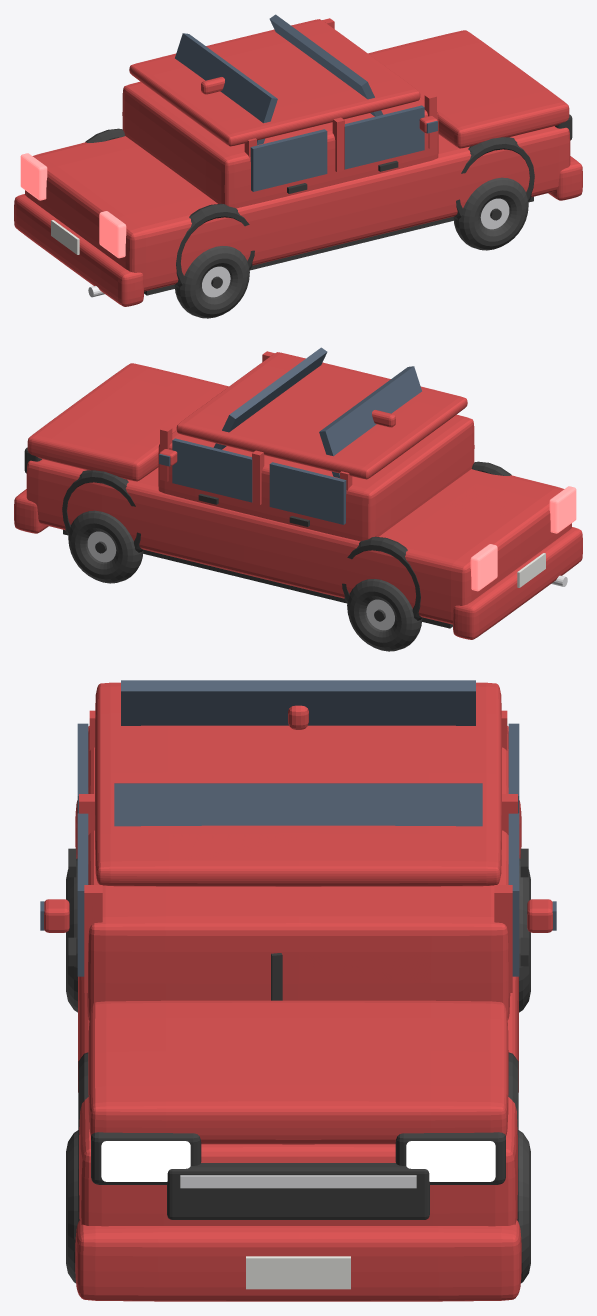
The model's file is jp_car.glb.
3 renders of one model, top to bottom at view 1: azimuth 30°, elevation 25°; view 2: azimuth 150°, elevation 25°; view 3: azimuth 270°, elevation 25°, orthographic. The views are drawn at different scales.
Parts seen in each view (by area): view 1: LowerBody, Roof, Hood, Cabin, BumperR, SideGlassF_-0.82, SideGlassR_-0.82, Tire3, Tire1, RearGlass, Windshield, Arch3 (+10 smaller); view 2: LowerBody, Roof, Hood, Cabin, BumperR, SideGlassF_0.82, SideGlassR_0.82, Tire2, Tire0, RearGlass, Windshield, Arch2 (+10 smaller); view 3: Hood, Roof, Cabin, BumperF, LowerBody, RearGlass, Windshield, Grille, PlateF, HeadLens_L, HeadLens_R, GrilleBar (+14 smaller).
Boxes of the visible parts, x1,y1,x2,y2 form: LowerBody: (25,126,570,291); Roof: (129,19,420,146); Hood: (368,30,569,148); Cabin: (122,81,438,208); BumperR: (14,194,143,306); SideGlassF_-0.82: (344,105,424,169); SideGlassR_-0.82: (250,129,327,191); Tire3: (174,246,249,318); Tire1: (453,177,528,250); RearGlass: (175,33,277,145); Windshield: (269,14,383,116); Arch3: (174,203,254,287); LowerBody: (26,459,571,624); Roof: (176,352,467,479); Hood: (27,363,228,481); Cabin: (158,414,474,541); BumperR: (453,527,582,639); SideGlassF_0.82: (172,438,252,502); SideGlassR_0.82: (269,462,346,524); Tire2: (347,579,422,651); Tire0: (68,510,143,583); RearGlass: (319,366,421,478); Windshield: (213,347,327,449); Arch2: (342,536,422,620); Hood: (88,1000,508,1144); Roof: (95,682,501,886); Cabin: (86,728,510,1020); BumperF: (75,1220,521,1301); LowerBody: (78,726,518,1226); RearGlass: (121,680,475,725); Windshield: (114,783,482,826); Grille: (167,1163,429,1219); PlateF: (246,1256,350,1289); HeadLens_L: (406,1141,495,1181); HeadLens_R: (101,1141,190,1181); GrilleBar: (180,1175,416,1188).
Size of the model in its own units: 4.13 by 1.66 by 1.97.
